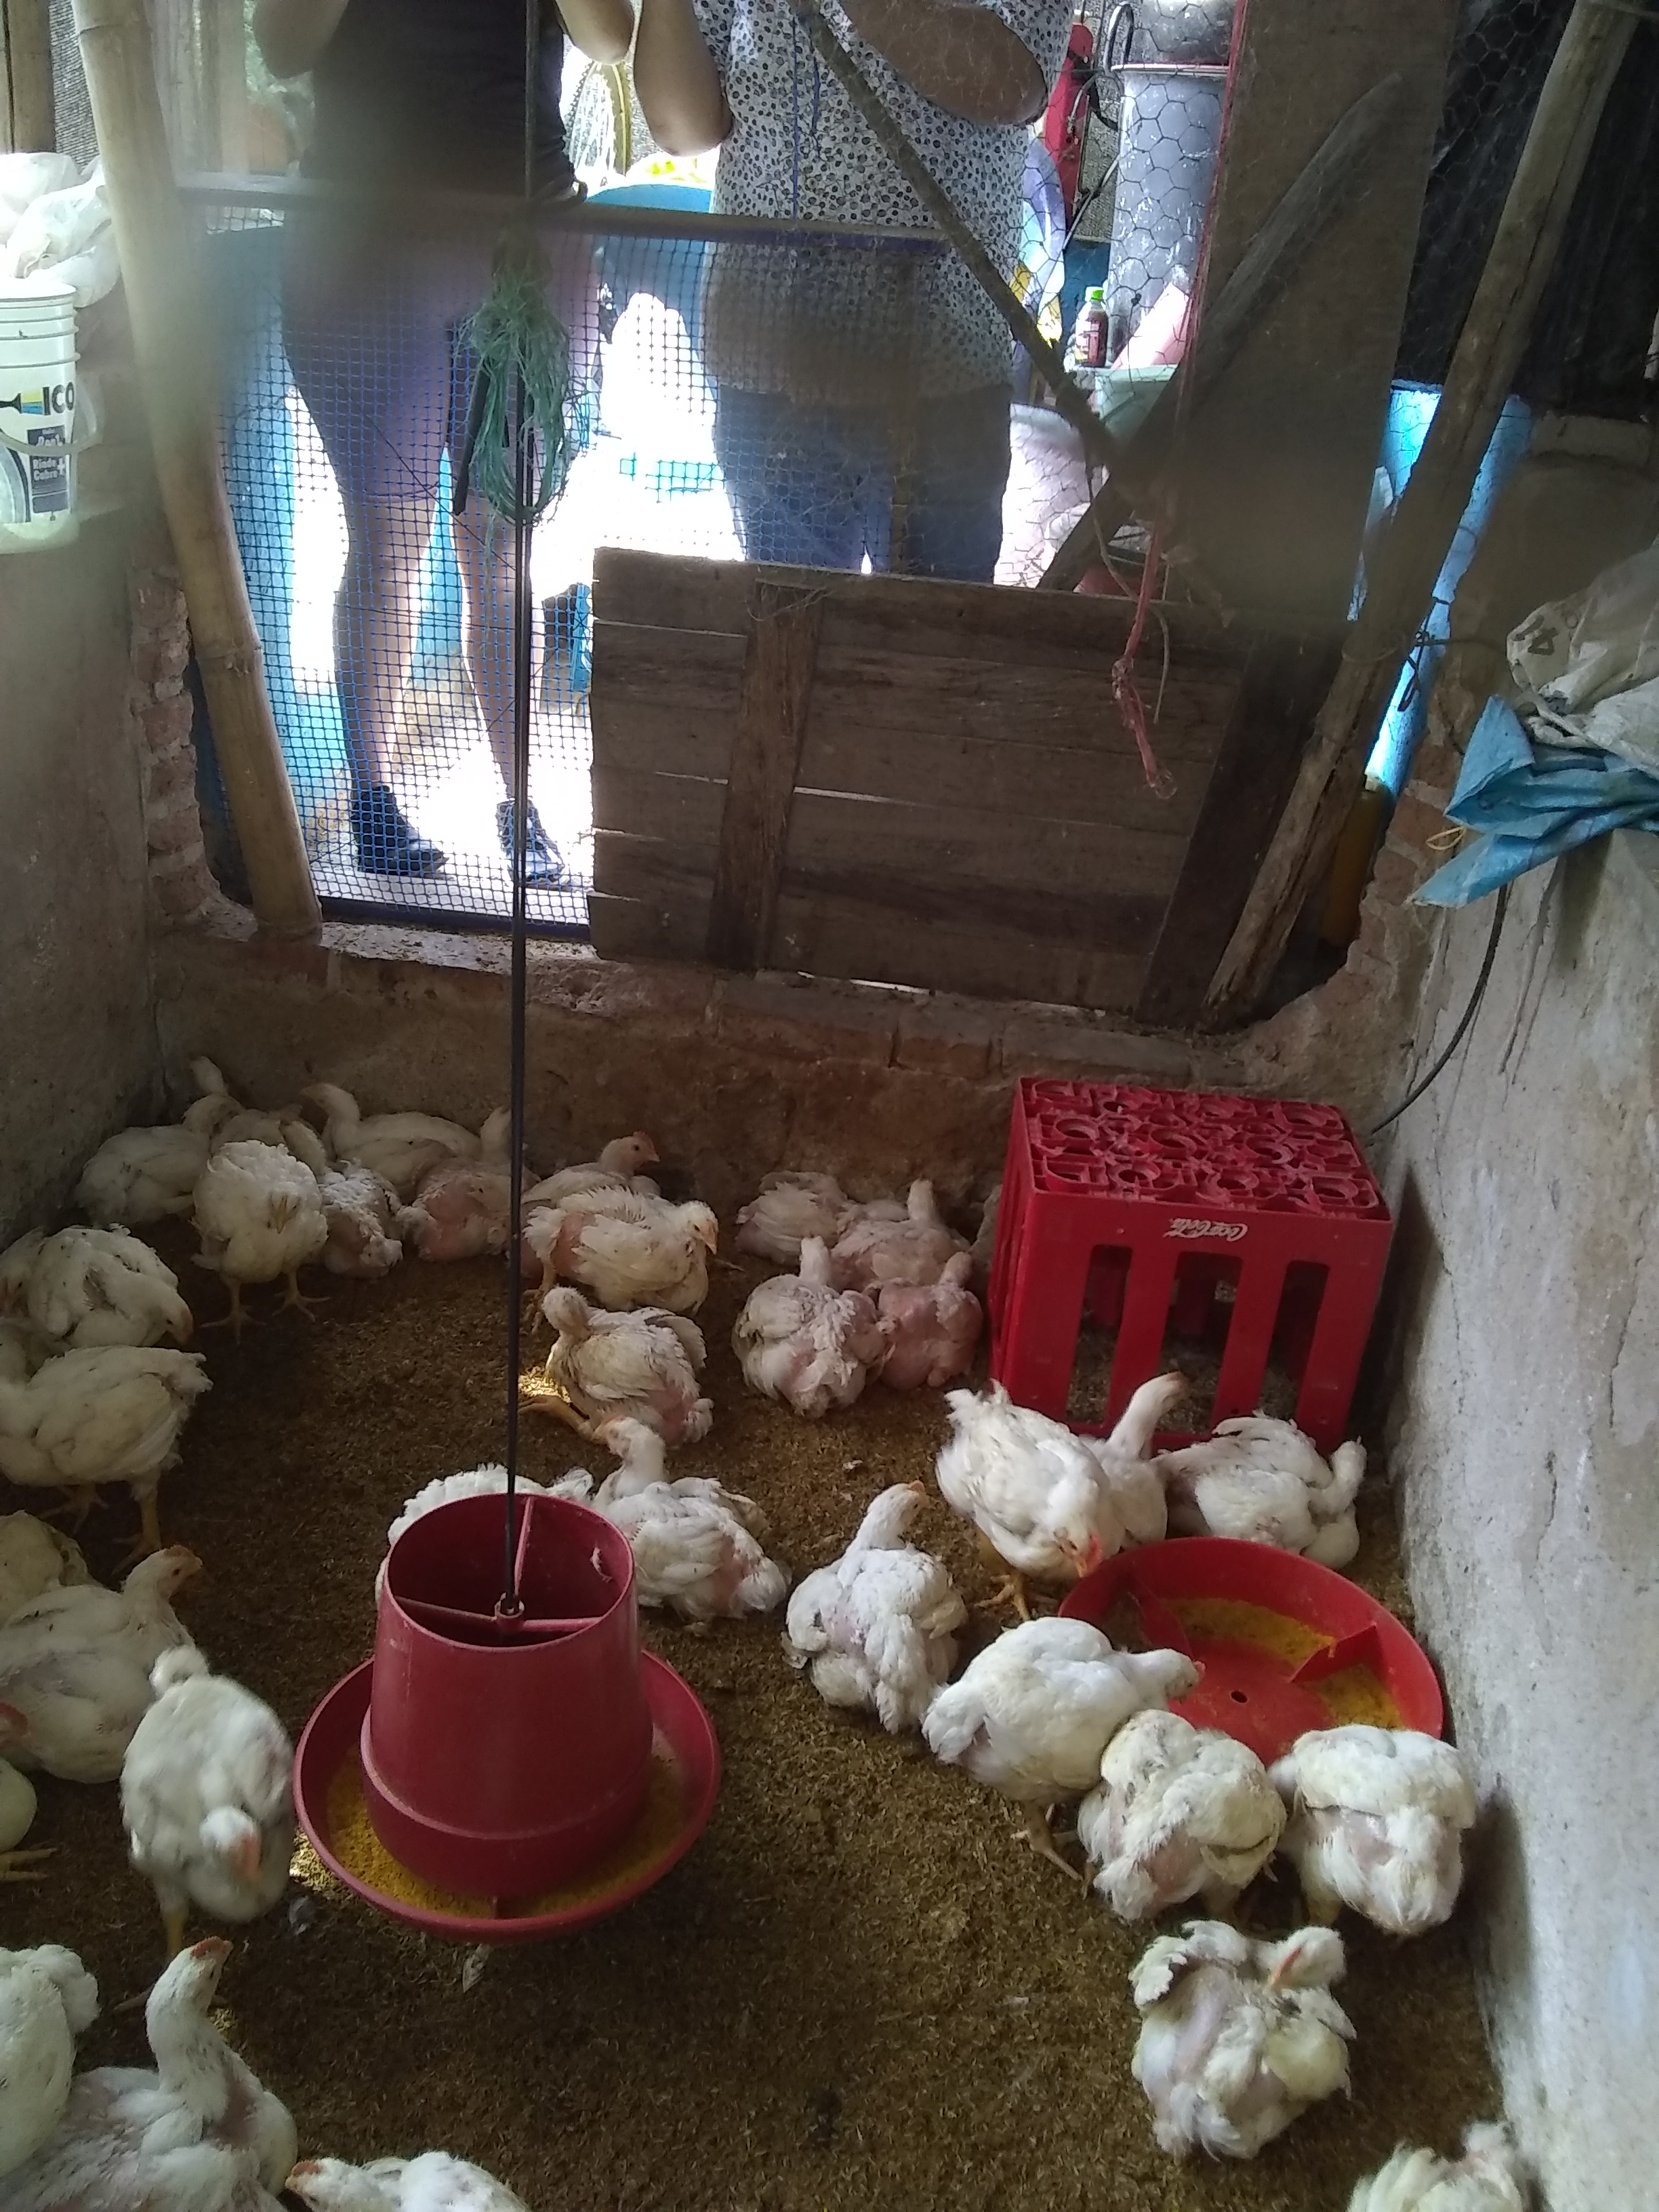Pollos: (1138, 1925, 1352, 2151), (127, 1935, 289, 2203), (143, 1648, 296, 1919), (9, 1547, 197, 1757), (601, 1420, 796, 1609), (936, 1385, 1122, 1583), (1302, 1723, 1471, 1930), (0, 1341, 211, 1491), (1103, 1710, 1272, 1895), (819, 1474, 953, 1693), (540, 1284, 723, 1433), (1192, 1414, 1377, 1561), (976, 1615, 1209, 1723), (742, 1235, 871, 1406), (24, 1233, 202, 1339), (73, 1089, 220, 1217), (420, 1101, 533, 1263), (549, 1191, 723, 1289), (206, 1127, 319, 1271), (875, 1252, 986, 1366), (305, 1073, 423, 1174), (549, 1127, 667, 1188), (1119, 1362, 1187, 1437)
